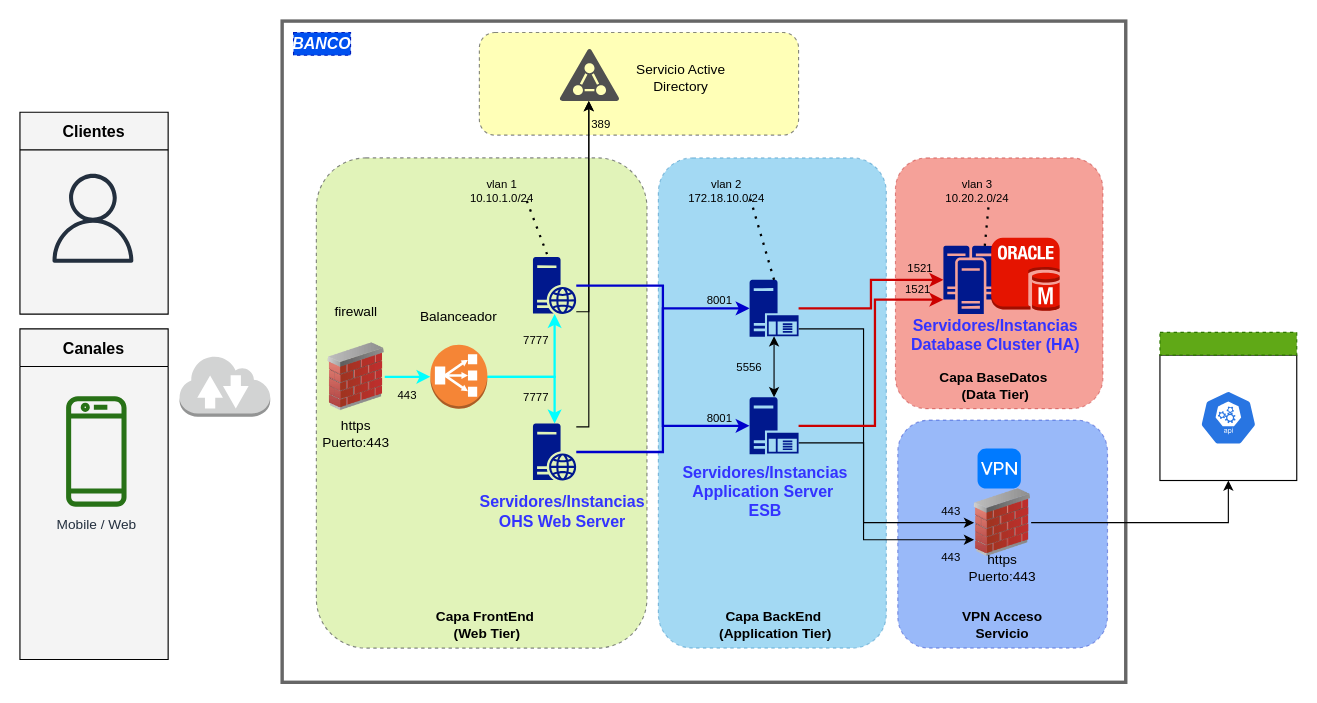
The diagram is 1317 pixels wide and 703 high, and some of its shapes have lost their labels. Each missing label, with the centre of its shape:
API Empresa A: [1228,343]
User: [92,217]
